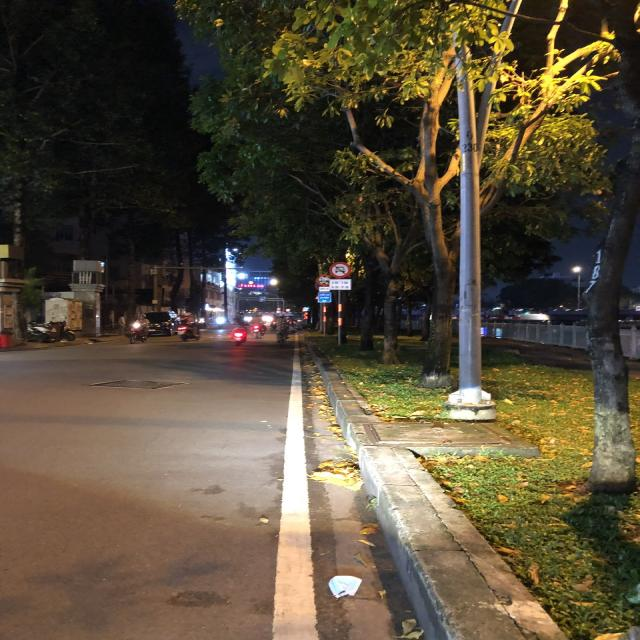Bien bao cam xe oto: (328, 260, 353, 278)
